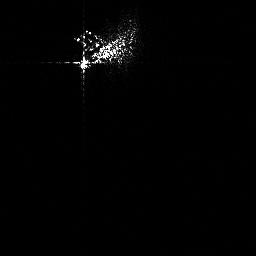ship: (62, 20, 137, 90)
